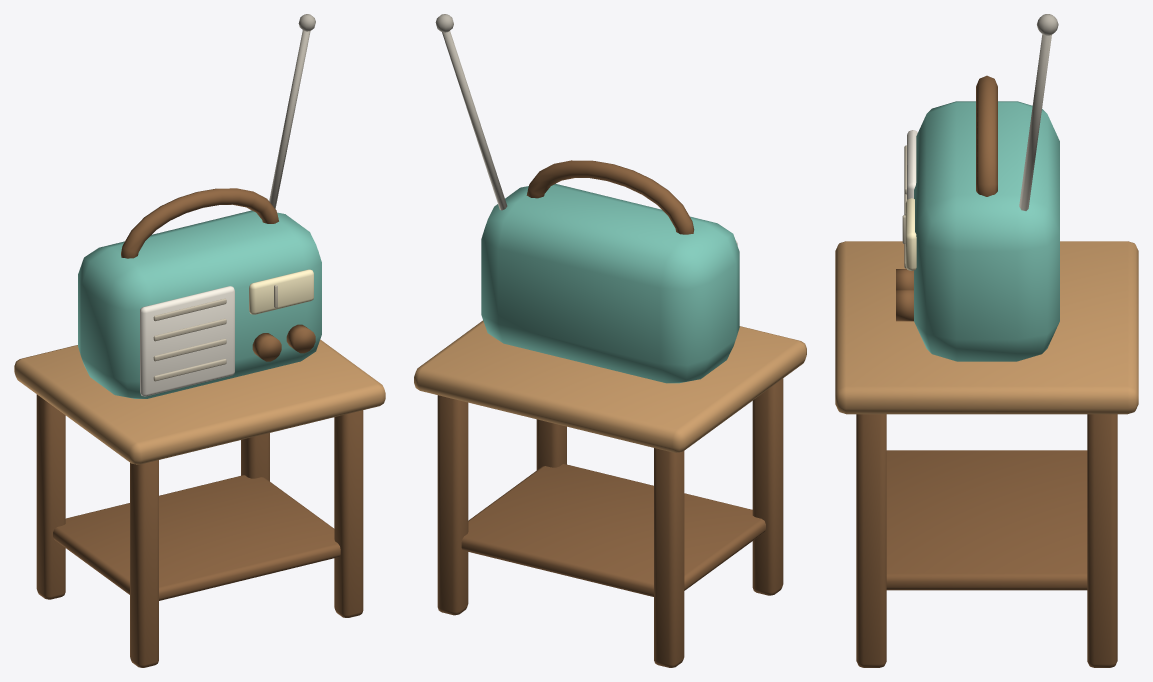
The model's file is radio.glb.
3 views of the same model, side by side, from view 1: azimuth 30°, elevation 25°; view 2: azimuth 150°, elevation 25°; view 3: azimuth 270°, elevation 25° (orthographic). The views are drawn at different scales.
Parts seen in each view (by area): view 1: table, radio.001; view 2: table, radio.001; view 3: table, radio.001.
Boxes of the visible parts, bbox=[...] form: table: bbox=[14, 339, 385, 667]; radio.001: bbox=[78, 14, 321, 398]; table: bbox=[414, 320, 806, 667]; radio.001: bbox=[435, 14, 739, 383]; table: bbox=[835, 241, 1138, 667]; radio.001: bbox=[896, 14, 1059, 361].
Size of the model in its own units: 0.6271 by 1.21 by 0.5.
